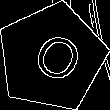O_SW: (20, 24, 83, 90)
